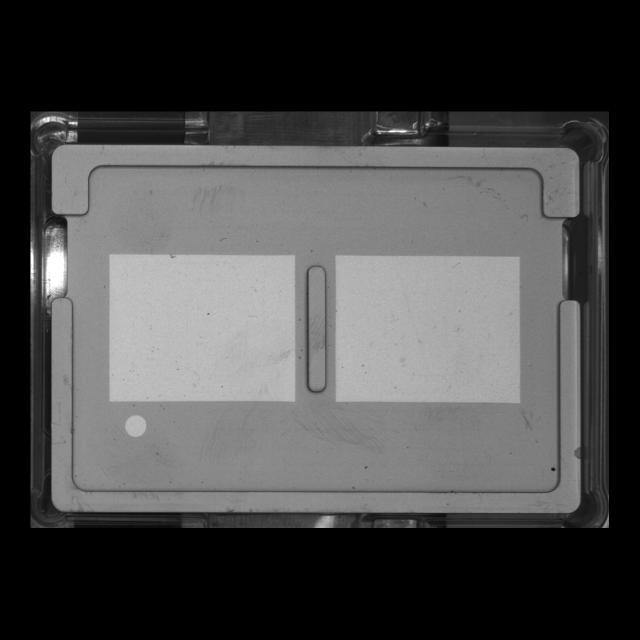door: (42, 132, 590, 232)
point: (122, 410, 152, 442)
